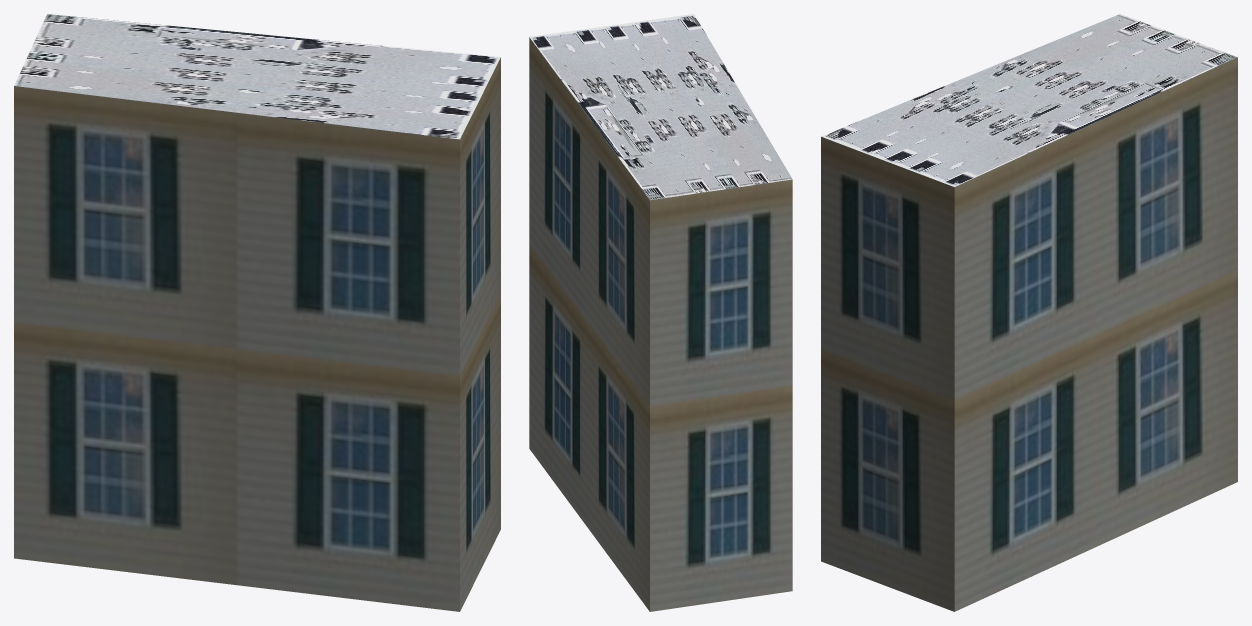
File: ResTex__3541.fbx
3 renders of one model, left to right at view 1: azimuth 30°, elevation 25°; view 2: azimuth 150°, elevation 25°; view 3: azimuth 270°, elevation 25°, orthographic. The views are drawn at different scales.
Visible parts, largest first — view 1: CityEngineMaterial_7_m, CityEngineMaterial_4_m; view 2: CityEngineMaterial_7_m, CityEngineMaterial_4_m; view 3: CityEngineMaterial_7_m, CityEngineMaterial_4_m.
Boxes of the visible parts, x1,y1,x2,y2 form: CityEngineMaterial_7_m: (14, 57, 500, 611); CityEngineMaterial_4_m: (14, 14, 500, 139); CityEngineMaterial_7_m: (529, 37, 792, 611); CityEngineMaterial_4_m: (529, 14, 792, 200); CityEngineMaterial_7_m: (821, 57, 1237, 611); CityEngineMaterial_4_m: (821, 14, 1237, 186).
Size of the model in its own units: 5.25 by 6 by 5.34.
Materials: 2 (2 with a texture image).
